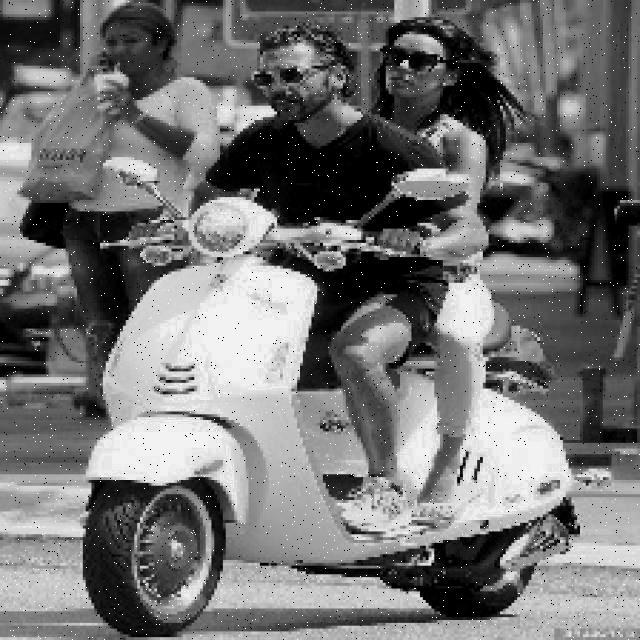Bike: (71, 185, 610, 639)
